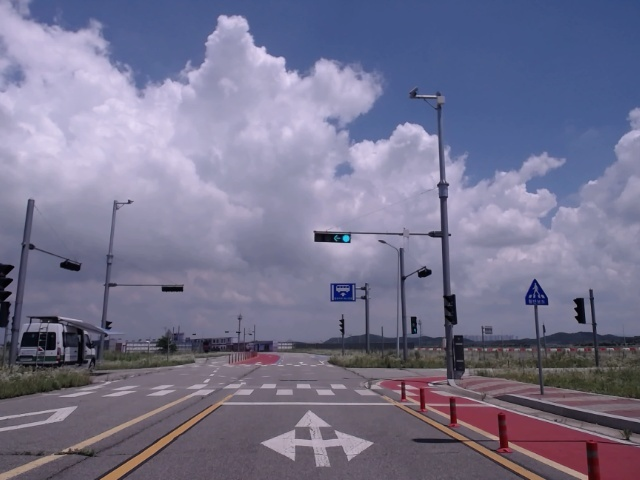all_green_4: (314, 230, 349, 244)
